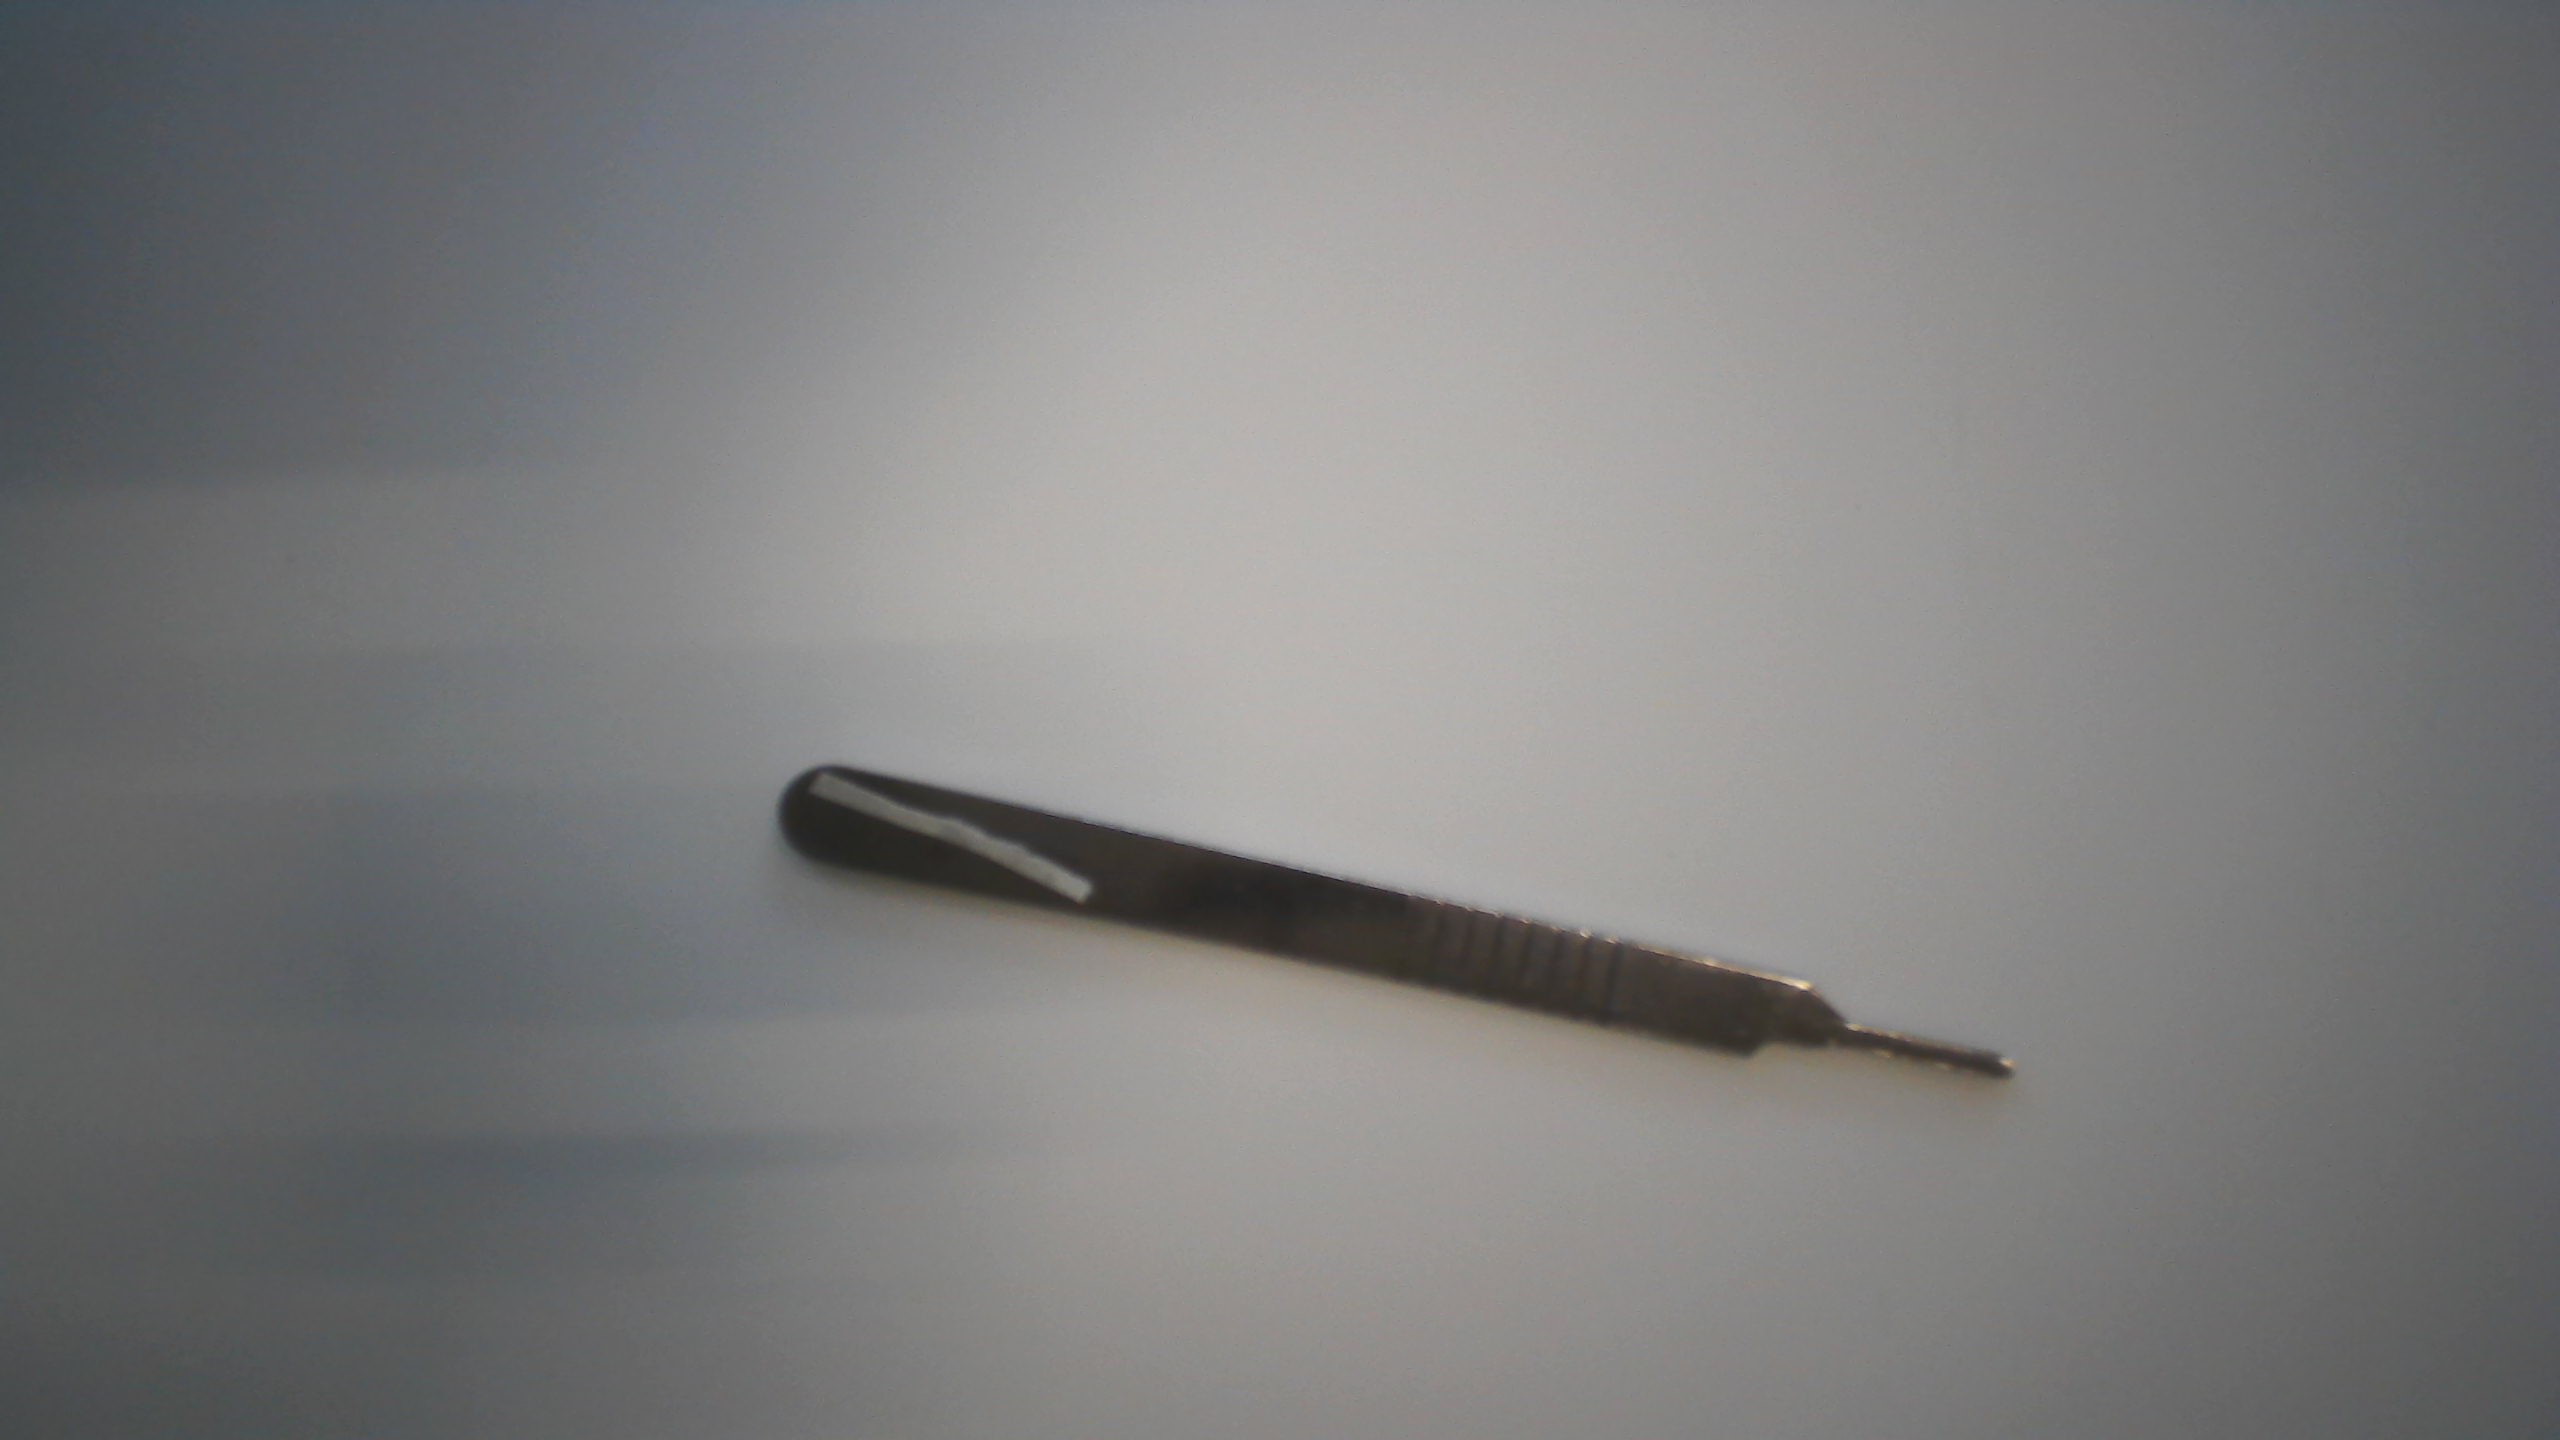Scratches: (795, 763, 1102, 907)
